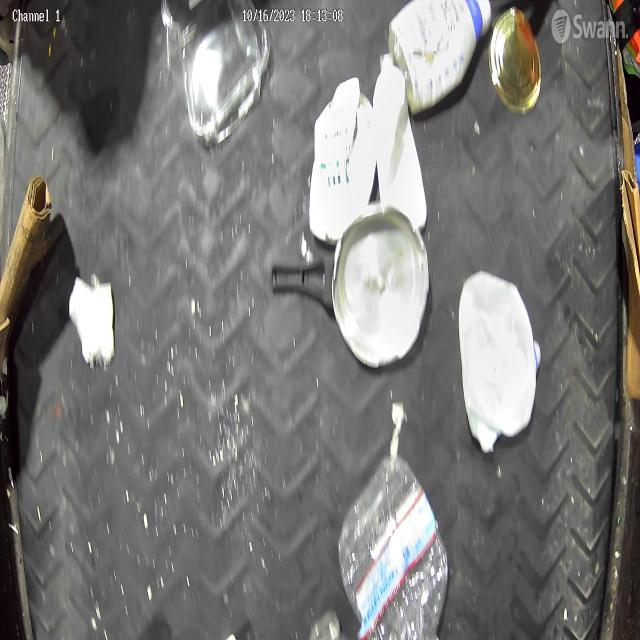can: (488, 6, 541, 115)
milk_jug: (458, 271, 540, 452), (388, 0, 492, 114), (310, 78, 373, 244), (373, 52, 427, 232)
plastic_bottle: (338, 455, 449, 640)
